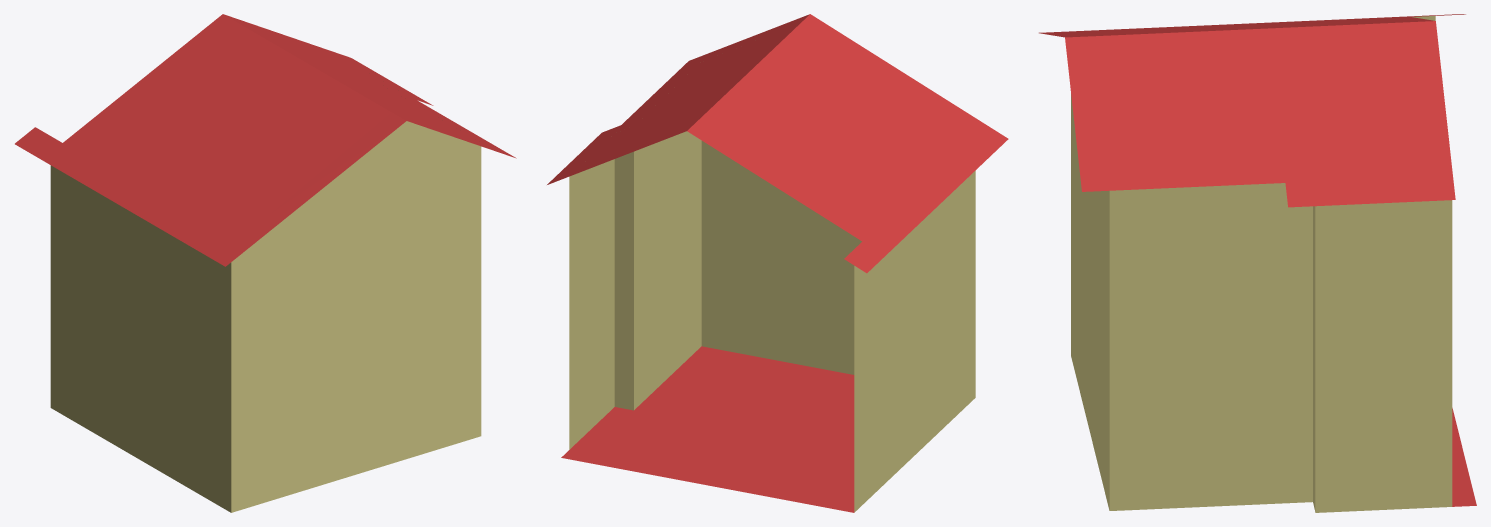
3 renders of one model, left to right at view 1: azimuth 30°, elevation 25°; view 2: azimuth 150°, elevation 25°; view 3: azimuth 270°, elevation 25°, orthographic. The views are drawn at different scales.
Bounding box in the file's own units: 11.56 × 10.65 × 11.2.
